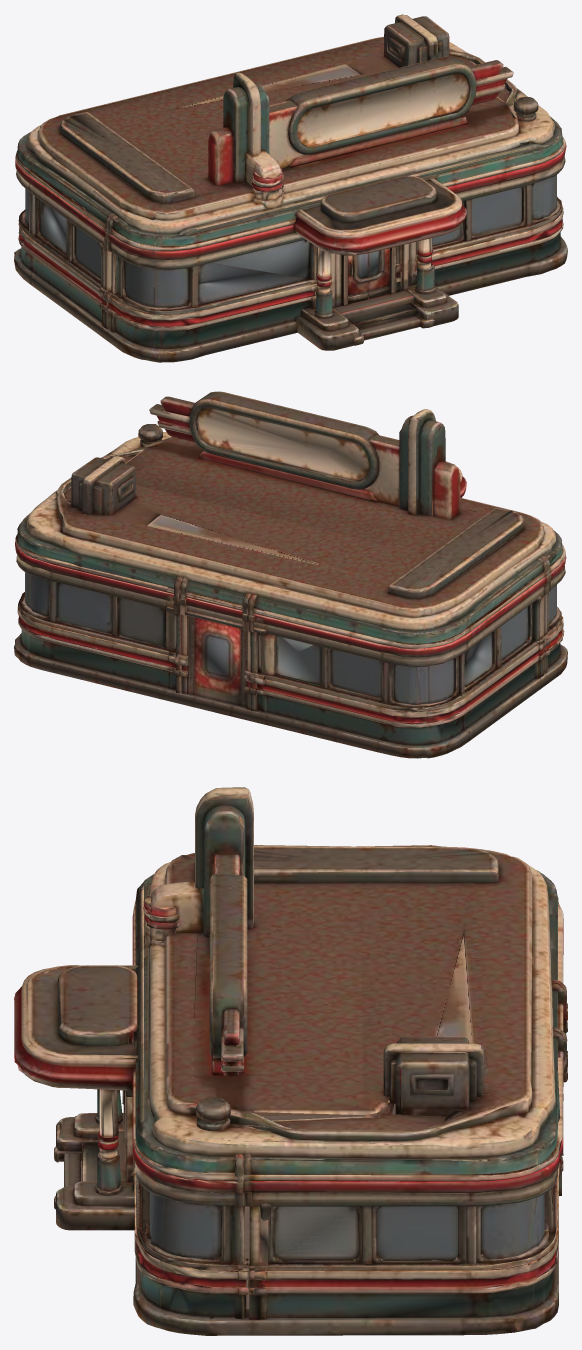
Rendered from town_diner.glb.
3 renders of one model, top to bottom at view 1: azimuth 30°, elevation 25°; view 2: azimuth 150°, elevation 25°; view 3: azimuth 270°, elevation 25°, orthographic. The views are drawn at different scales.
Size of the model in its own units: 0.9517 by 0.4864 by 0.7305.
Materials: 1 (1 with a texture image).
